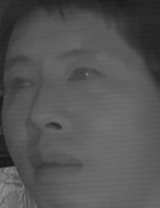eye: (66, 62, 105, 85), (6, 75, 39, 95)
mouth: (25, 147, 86, 182)
